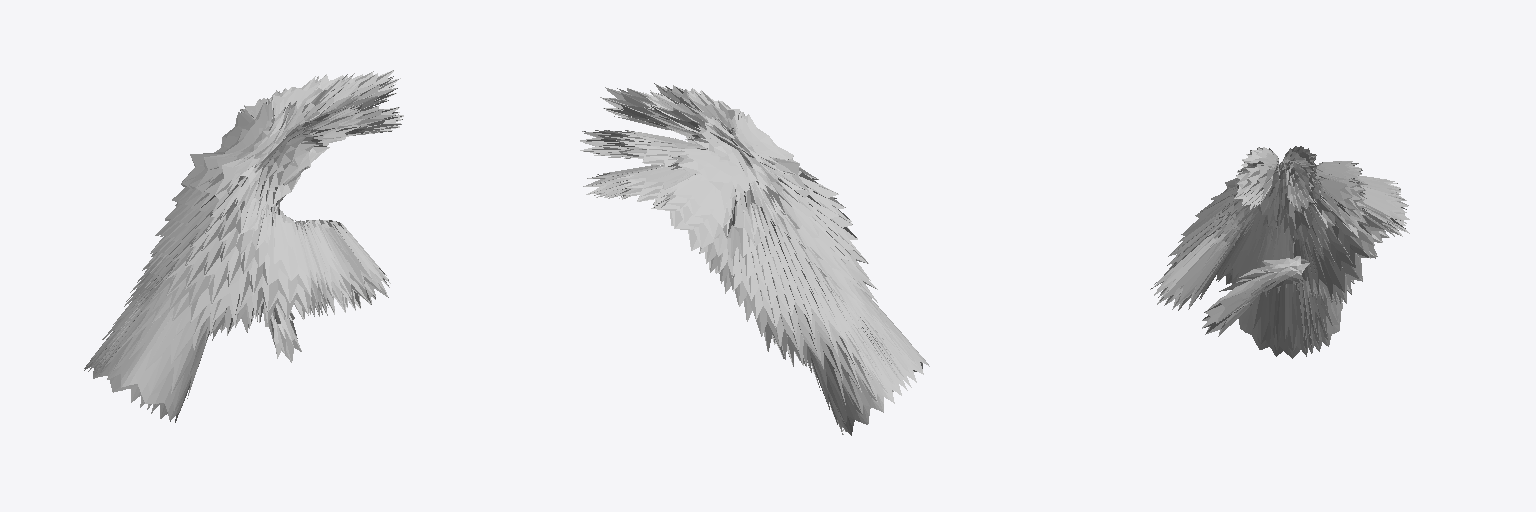
File: hand01.obj
The picture shows the model from 3 angles: view 1: azimuth 30°, elevation 25°; view 2: azimuth 150°, elevation 25°; view 3: azimuth 270°, elevation 25°; orthographic projection.
Visible parts, largest first — view 1: Cube.001, Cube.002; view 2: Cube.001; view 3: Cube.001, Cube.002.
Boxes of the visible parts, x1=… form: Cube.001: x1=84, y1=70, x2=403, y2=422; Cube.002: x1=263, y1=304, x2=301, y2=362; Cube.001: x1=580, y1=83, x2=929, y2=435; Cube.001: x1=1150, y1=146, x2=1409, y2=358; Cube.002: x1=1202, y1=256, x2=1310, y2=336.
Size of the model in its own units: 4.09 by 3.73 by 3.01.